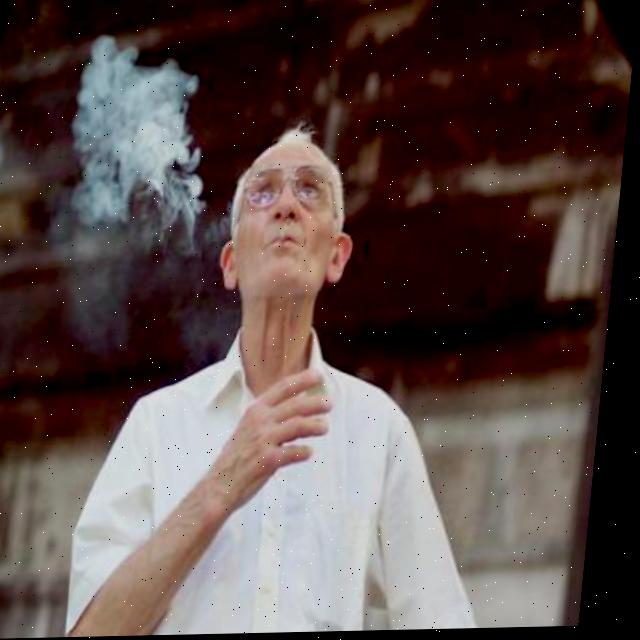cigarette: (284, 219, 296, 244)
